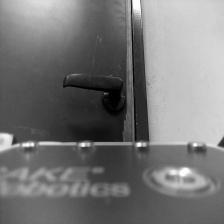Door Handle: (61, 72, 128, 114)
